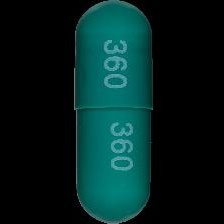63629-4338: (0, 0, 224, 224)
